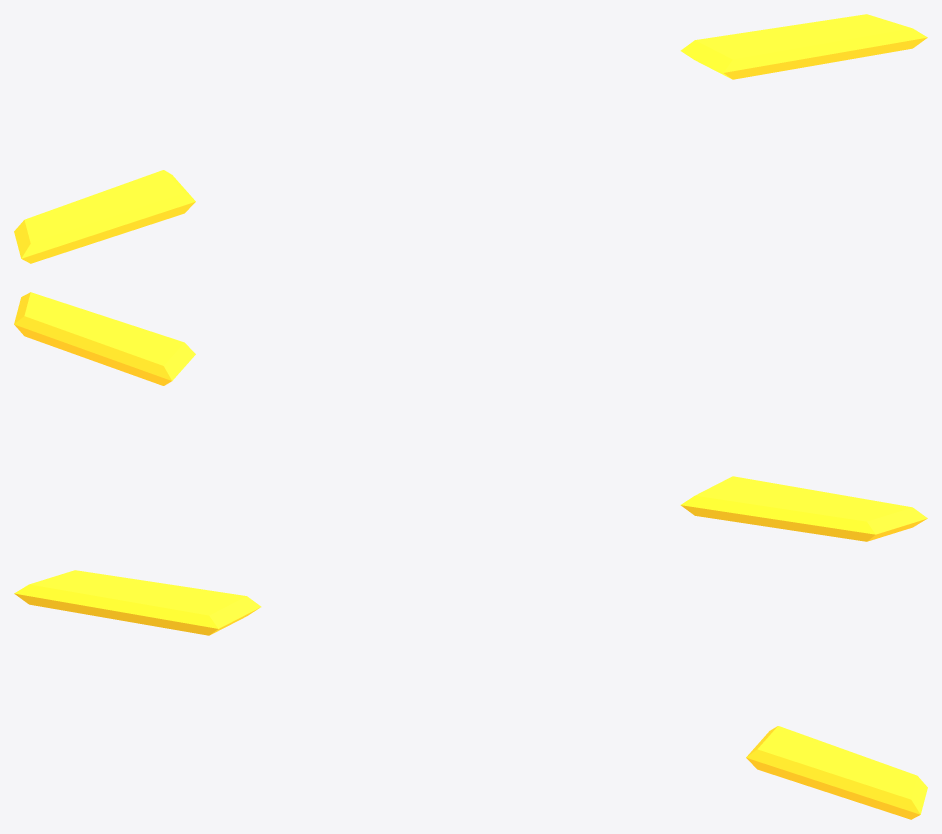
Rendered from player_upgrade_magnet_field.glb.
3 views of the same model, one above another, from view 1: azimuth 30°, elevation 25°; view 2: azimuth 150°, elevation 25°; view 3: azimuth 330°, elevation 25° (orthographic).
Visible parts, largest first — view 1: PLAYER UPGRADE // MAGNET RAILS; view 2: PLAYER UPGRADE // MAGNET RAILS; view 3: PLAYER UPGRADE // MAGNET RAILS.
Part boxes in pixels (x1,y1,x2,y2): PLAYER UPGRADE // MAGNET RAILS: (14,14,927,263); PLAYER UPGRADE // MAGNET RAILS: (14,292,927,541); PLAYER UPGRADE // MAGNET RAILS: (14,570,927,819).
Bounding box in the file's own units: 5.64 × 0.12 × 0.52.
